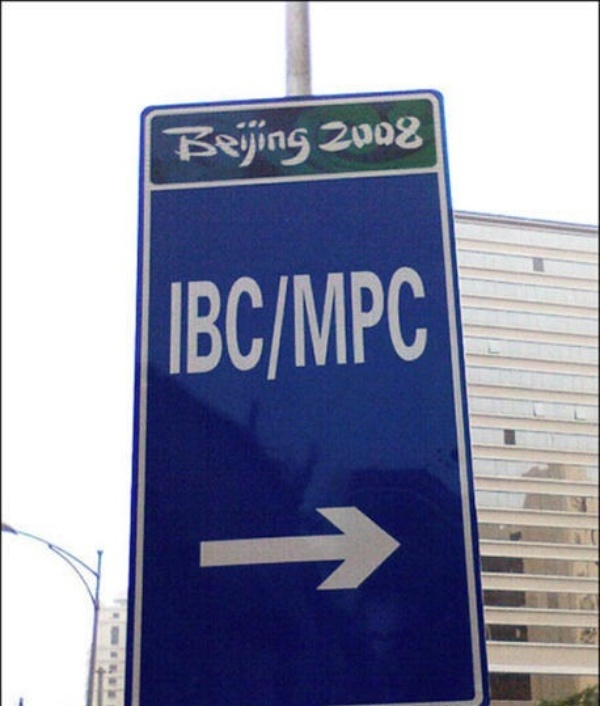text: (177, 264, 192, 387), (193, 264, 208, 387), (209, 264, 224, 387), (225, 264, 240, 387), (241, 264, 256, 387), (257, 264, 272, 387), (273, 264, 288, 387), (289, 264, 304, 387), (305, 264, 320, 387), (321, 264, 336, 387), (337, 264, 352, 387), (353, 264, 368, 387), (369, 264, 384, 387), (385, 264, 400, 387), (401, 264, 416, 387), (417, 264, 432, 387), (162, 264, 176, 387), (161, 116, 176, 176), (177, 116, 192, 176), (193, 116, 208, 176), (209, 116, 224, 176), (225, 116, 240, 176), (241, 116, 256, 176), (257, 116, 272, 176), (273, 116, 288, 176), (289, 116, 304, 176), (433, 264, 438, 387), (321, 116, 336, 155), (337, 116, 352, 155), (353, 116, 368, 155), (369, 116, 384, 155), (385, 116, 400, 155), (401, 116, 416, 155), (305, 116, 314, 176), (417, 116, 426, 155), (316, 116, 320, 155)
